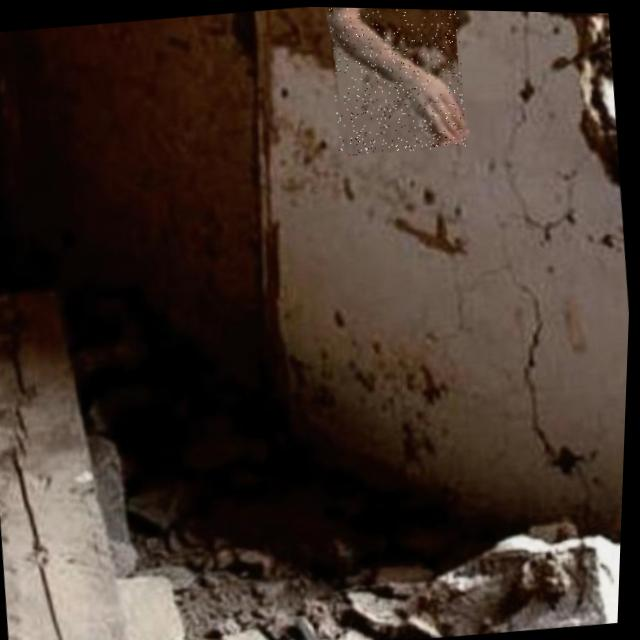Person in Rubble: (324, 6, 471, 157)
